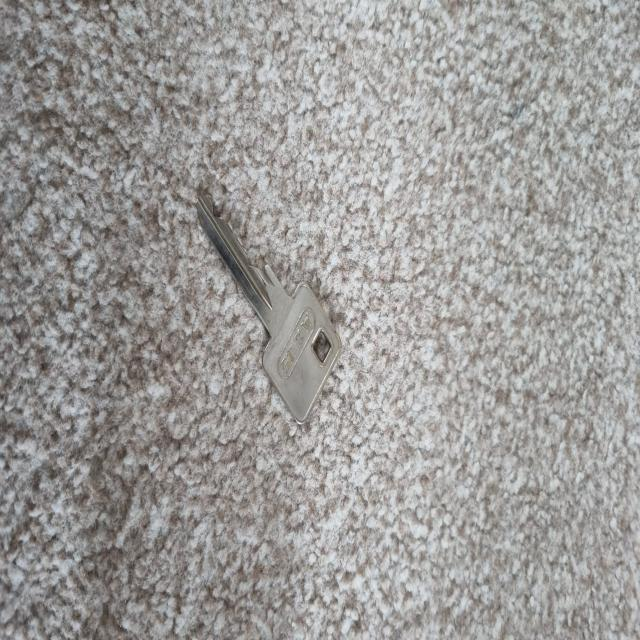Key: (197, 196, 340, 423)
